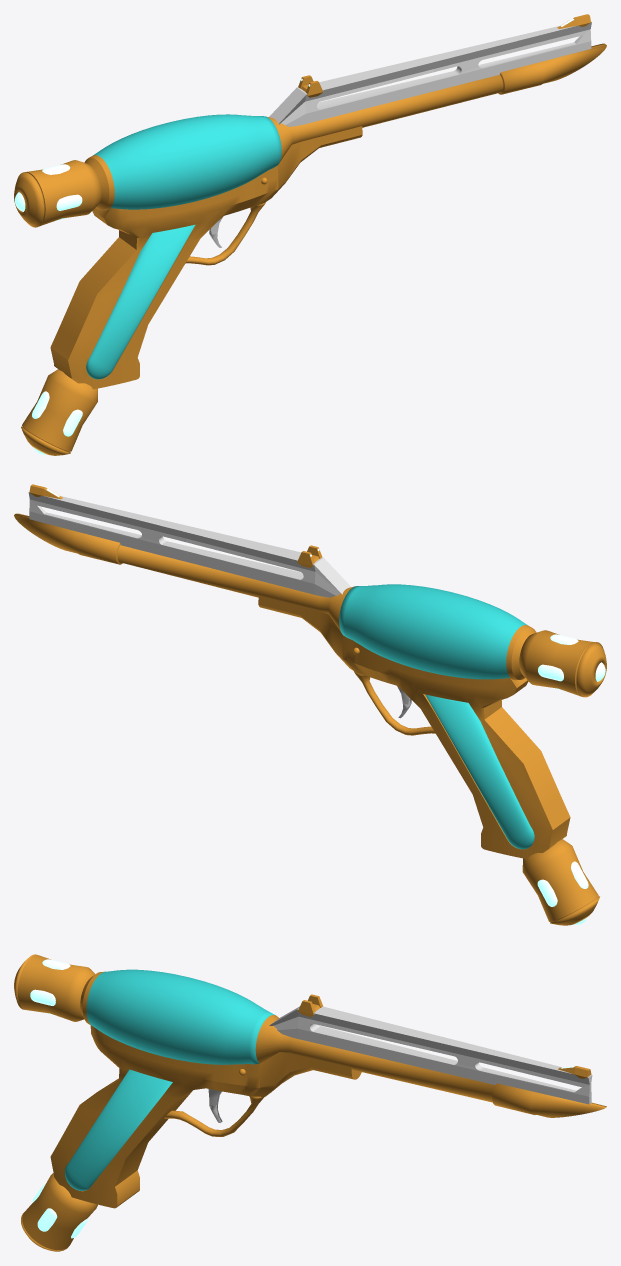
File: Flechette Pistol2.fbx
3 renders of one model, top to bottom at view 1: azimuth 30°, elevation 25°; view 2: azimuth 150°, elevation 25°; view 3: azimuth 330°, elevation 25°, orthographic.
Visible parts, largest first — view 1: Handle, Glass Area, Top_Front, Front_Area, Glass_Handle, Ammo, HandleAmmo2, FrontHandlePiece, Guard; view 2: Handle, Glass Area, Top_Front, Front_Area, Glass_Handle, Ammo, HandleAmmo2, FrontHandlePiece, Guard; view 3: Glass Area, Handle, Top_Front, Front_Area, Glass_Handle, Ammo, HandleAmmo2, FrontHandlePiece, Guard.
Part boxes in pixels (x1,y1,x2,y2): Handle: (50,165,278,389); Glass Area: (93,114,281,209); Top_Front: (269,21,591,126); Front_Area: (267,43,606,161); Glass_Handle: (86,224,195,379); Ammo: (14,157,109,227); HandleAmmo2: (21,369,97,455); FrontHandlePiece: (265,126,362,202); Guard: (185,202,265,265); Handle: (342,635,570,859); Glass Area: (339,584,527,679); Top_Front: (28,491,351,597); Front_Area: (14,513,353,631); Glass_Handle: (425,694,534,849); Ammo: (511,627,606,697); HandleAmmo2: (522,839,599,925); FrontHandlePiece: (258,596,354,671); Guard: (354,671,435,735); Glass Area: (86,969,275,1064); Handle: (50,1025,259,1208); Top_Front: (269,1006,592,1104); Front_Area: (255,1015,606,1117); Glass_Handle: (65,1069,172,1190); Ammo: (14,954,95,1021); HandleAmmo2: (21,1173,97,1251); FrontHandlePiece: (253,1052,361,1096); Guard: (164,1096,264,1136).
Size of the model in its own units: 319 by 161 by 39.94.
